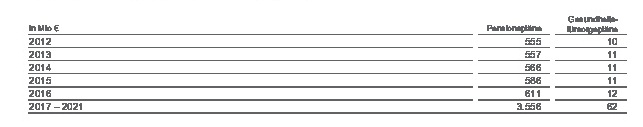table: (0, 0, 643, 127)
